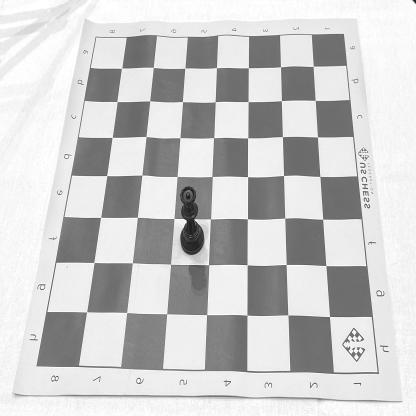black-queen: (180, 185, 204, 256)
